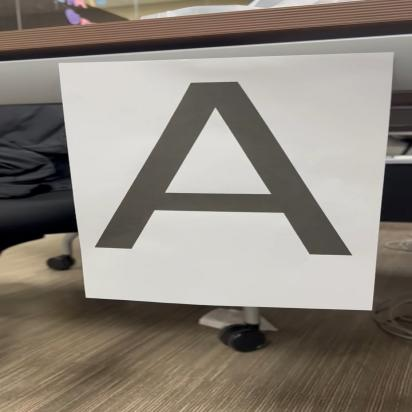seat: (79, 68, 362, 262)
